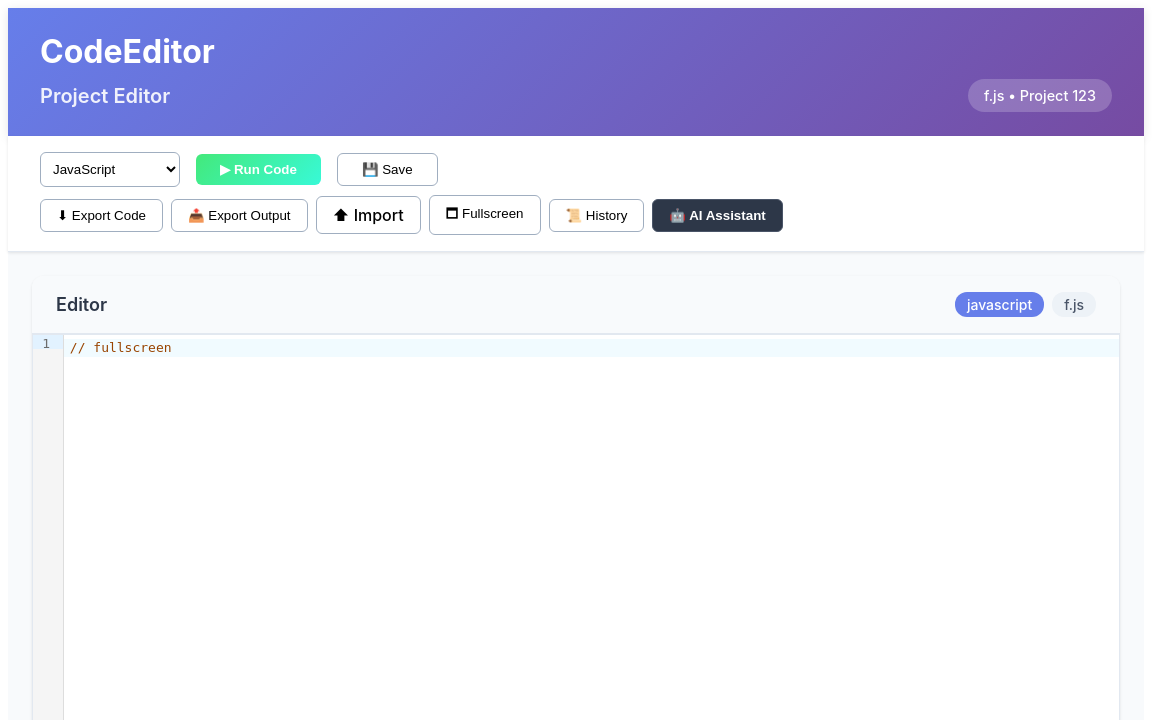
it: Editor Component › toggles fullscreen mode
Note: Toggle ON
Click the button "🗖 Fullscreen".
click(485, 215)  # box [429,195,541,235]
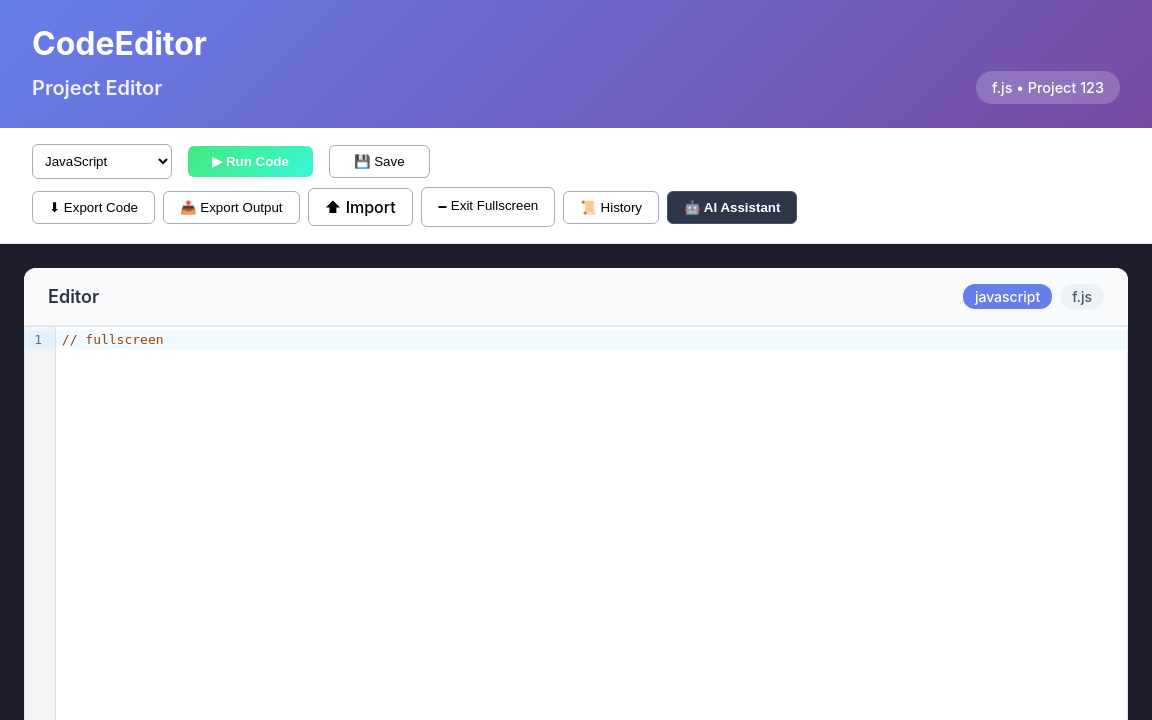
Check: the button "🗕 Exit Fullscreen" is shown
Note: Toggle OFF
Click the button "🗕 Exit Fullscreen".
click(488, 207)  # box [421,187,555,227]
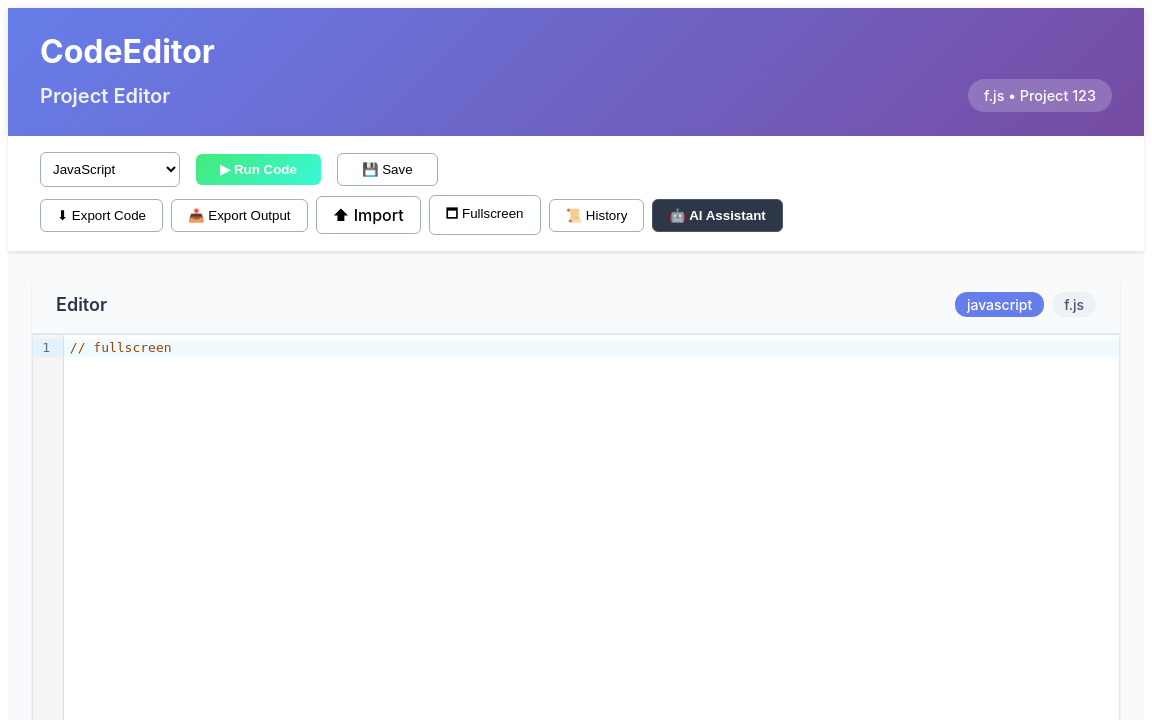
Check: the button "🗖 Fullscreen" is shown, box [429,195,541,235]
